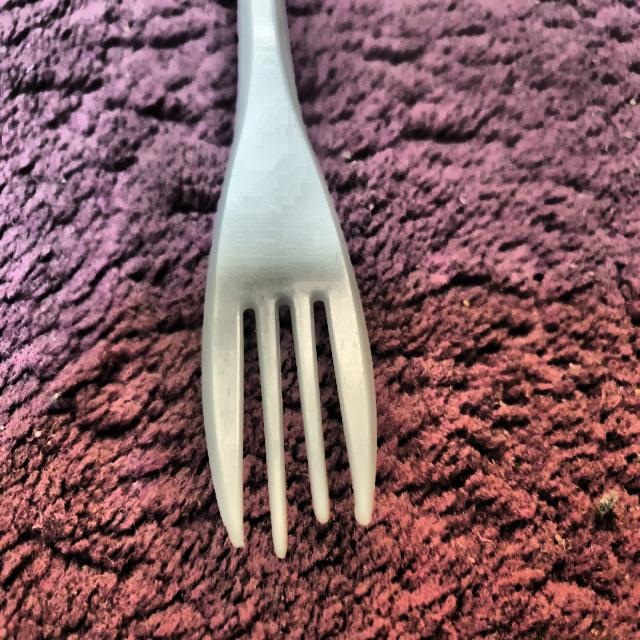plastic utensil: (194, 0, 388, 562)
